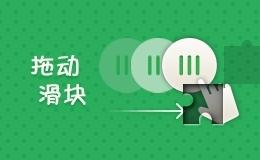target: (163, 64, 203, 104)
